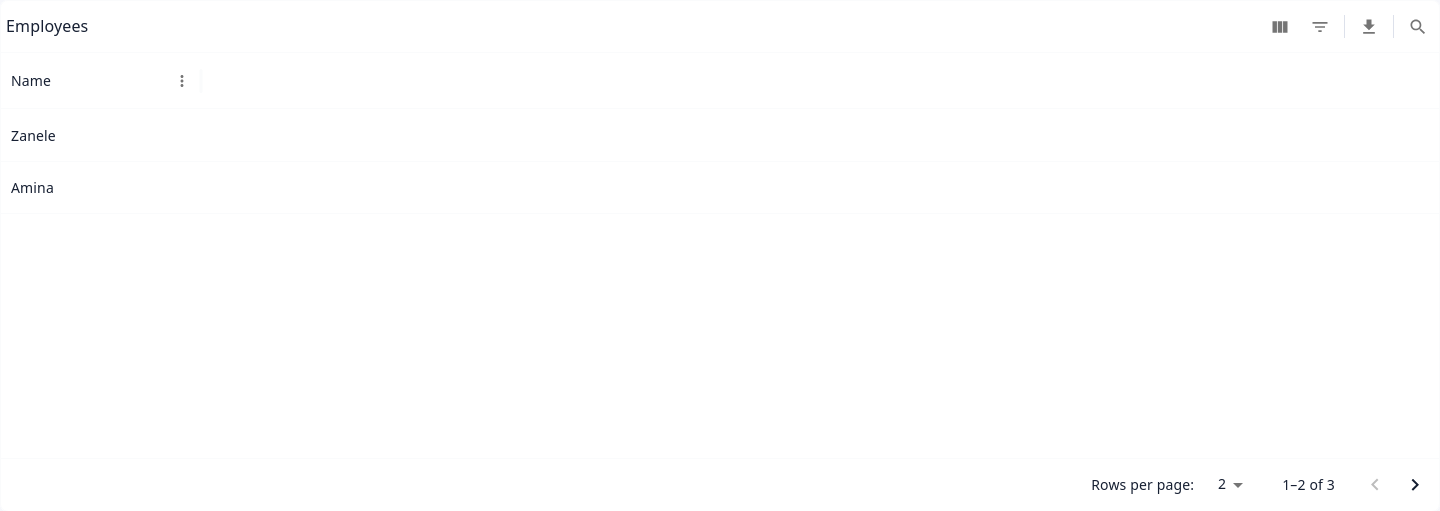
Scenario: NexaDataGrid › filters using the built-in quick search
Step 1. Click the button named "Search" → [1418, 26], box [1400,8,1436,44]
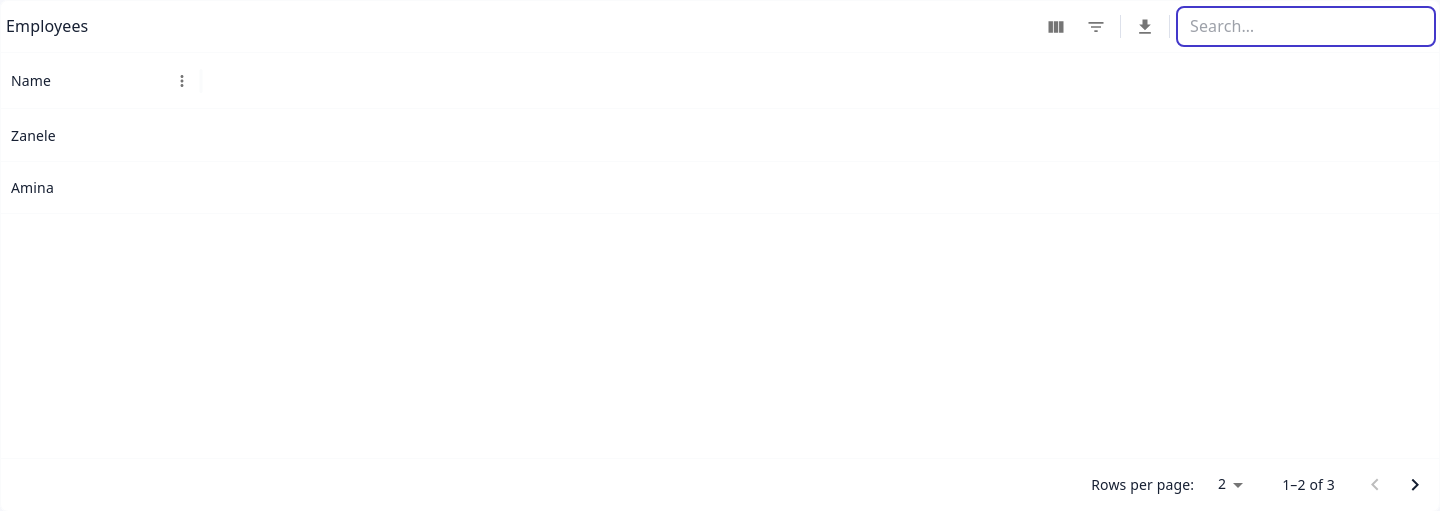
Step 2. Type "Zanele" into the search field labelled "Search" → [1306, 26], box [1176,6,1436,46]
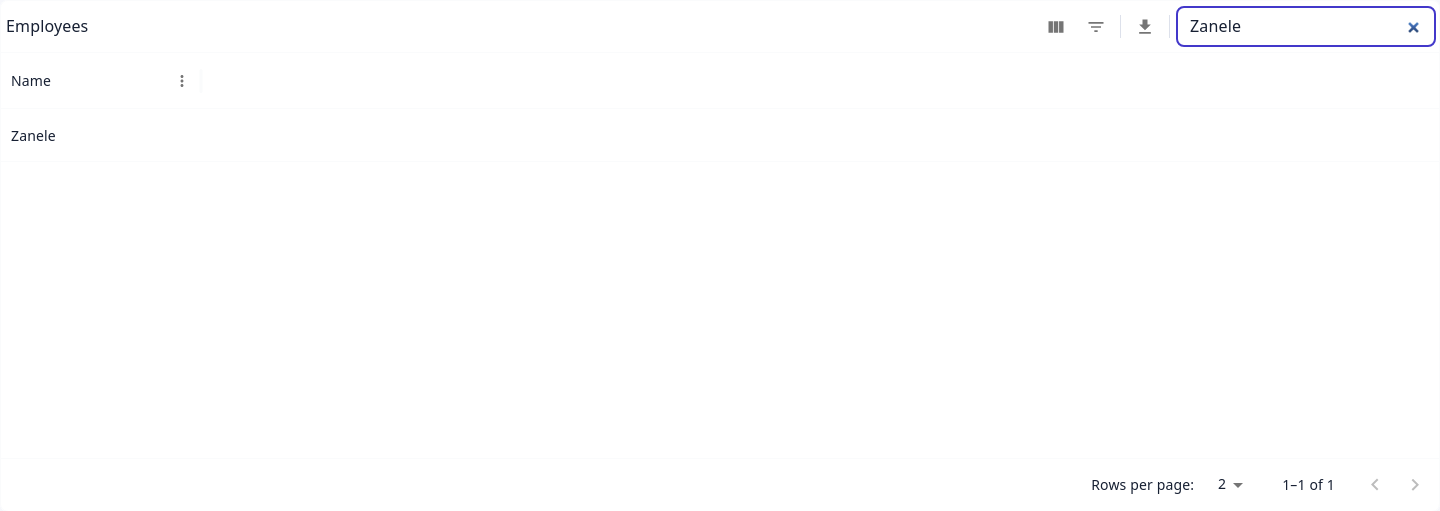
Expected: the cell "Zanele" is shown, [11,126,56,145]
Expected: the cell "Amina" is gone
